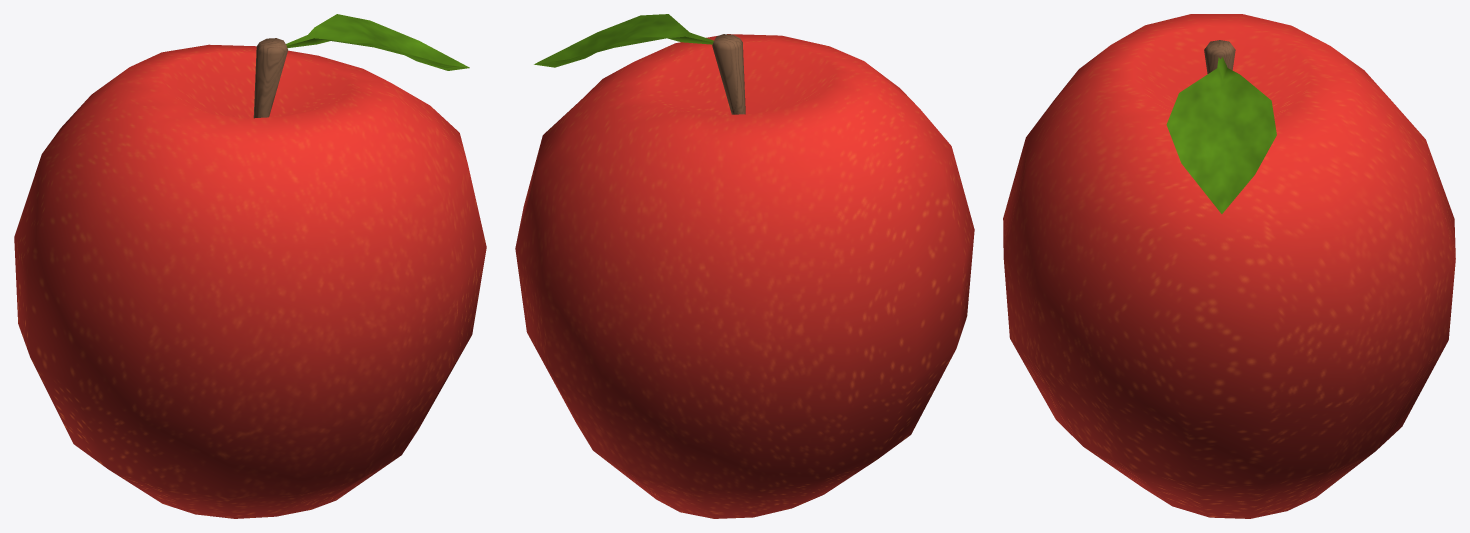
File: apple-new.glb
3 views of the same model, side by side, from view 1: azimuth 30°, elevation 25°; view 2: azimuth 150°, elevation 25°; view 3: azimuth 270°, elevation 25° (orthographic). The views are drawn at different scales.
Parts seen in each view (by area): view 1: applered, fruitB.001, fruitB.002; view 2: applered, fruitB.001, fruitB.002; view 3: applered, fruitB.001, fruitB.002.
Boxes of the visible parts, left/top/right/bottom form: applered: left=14, top=44, right=486, bottom=518; fruitB.001: left=286, top=14, right=469, bottom=70; fruitB.002: left=253, top=38, right=287, bottom=118; applered: left=515, top=34, right=974, bottom=518; fruitB.001: left=534, top=14, right=713, bottom=67; fruitB.002: left=712, top=34, right=745, bottom=114; applered: left=1003, top=14, right=1455, bottom=518; fruitB.001: left=1166, top=57, right=1276, bottom=213; fruitB.002: left=1204, top=40, right=1235, bottom=73.
Bounding box in the file's own units: 0.2917 × 0.2963 × 0.2742.
1 material, 1 textured.
